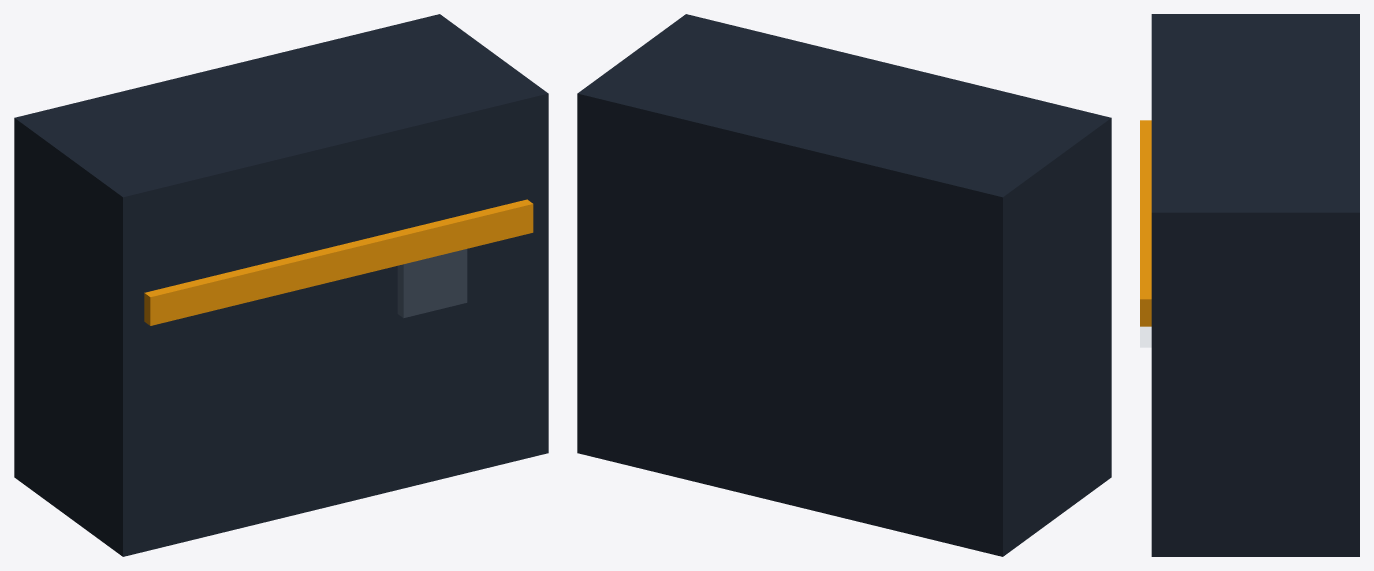
Rendered from fimer-pvs980-58.glb.
3 views of the same model, side by side, from view 1: azimuth 30°, elevation 25°; view 2: azimuth 150°, elevation 25°; view 3: azimuth 270°, elevation 25° (orthographic). The views are drawn at different scales.
Bounding box in the file's own units: 2.6 × 2.1 × 1.21.
